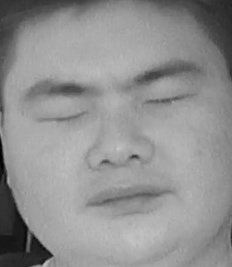blink: (144, 86, 195, 117), (39, 104, 87, 135)
mouth: (86, 175, 171, 222)
